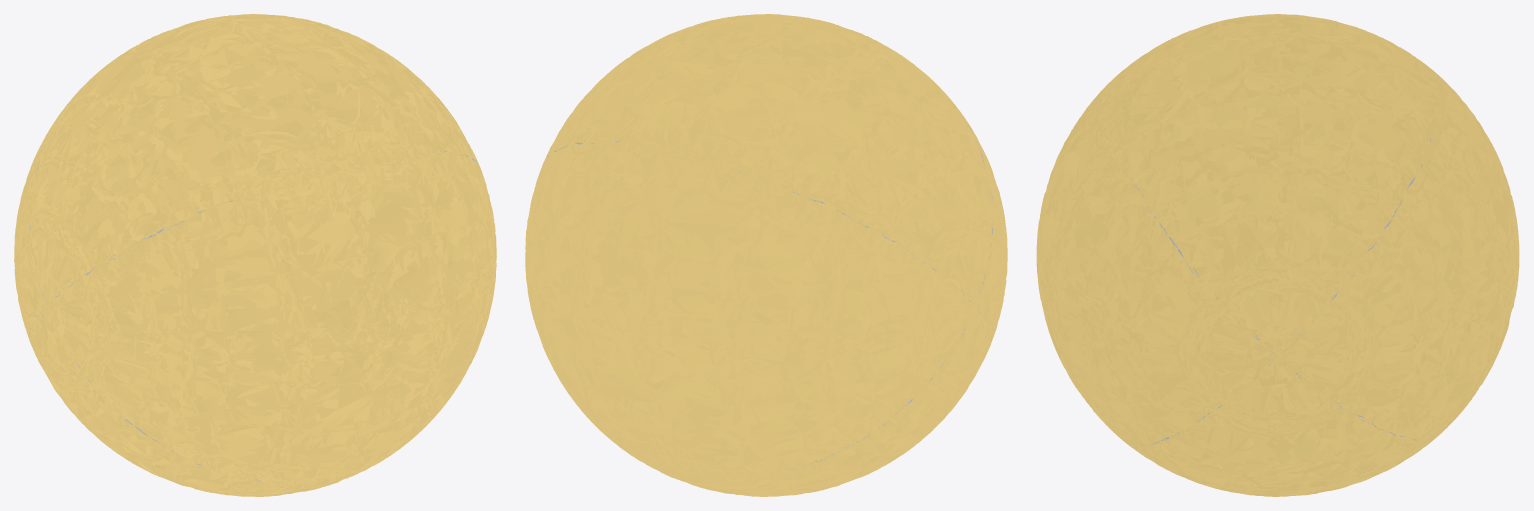
File: dg-inner-B.glb
3 renders of one model, left to right at view 1: azimuth 30°, elevation 25°; view 2: azimuth 150°, elevation 25°; view 3: azimuth 270°, elevation 25°, orthographic.
Parts seen in each view (by area): view 1: anodes; view 2: anodes; view 3: anodes.
Part boxes in pixels (bbox=[...]): anodes: bbox=[14, 14, 496, 496]; anodes: bbox=[525, 14, 1007, 496]; anodes: bbox=[1036, 14, 1519, 496].
Bounding box in the file's own units: 2 × 2 × 2.
